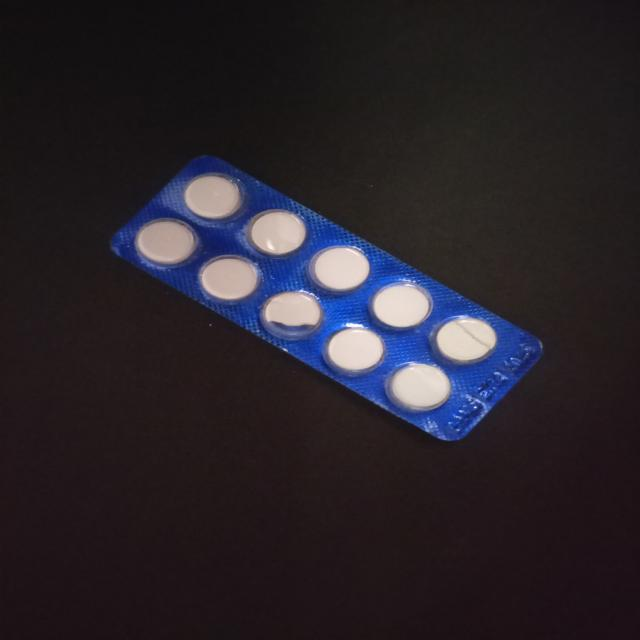defect: (430, 314, 502, 368), (257, 289, 326, 342)
